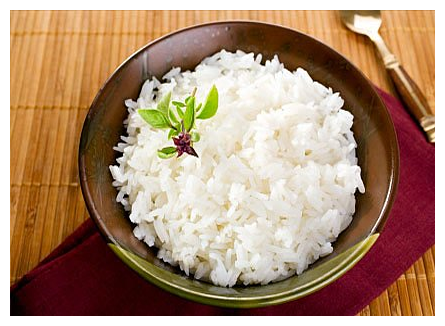plain rice: (131, 67, 342, 269)
